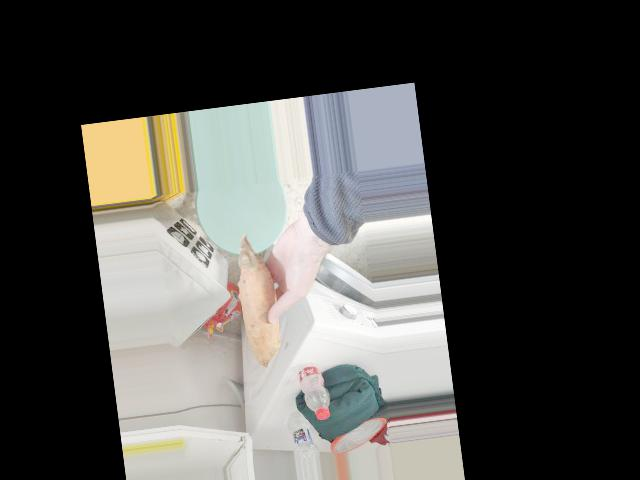sweet_potato: (233, 242, 286, 353)
